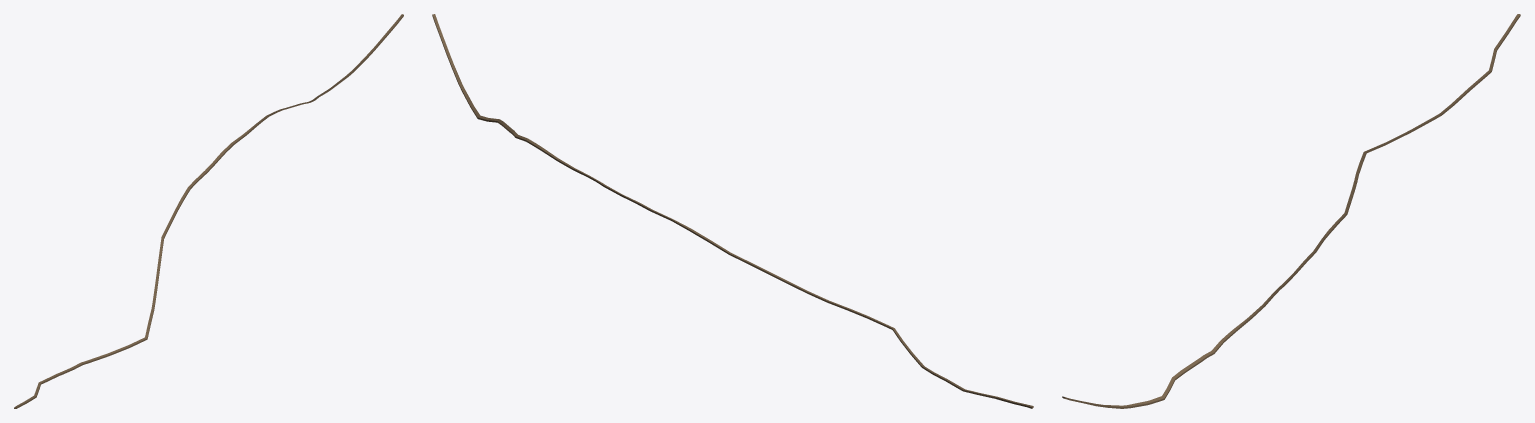
3 views of the same model, side by side, from view 1: azimuth 90°, elevation 25°; view 2: azimuth 150°, elevation 25°; view 3: azimuth 270°, elevation 25° (orthographic). The views are drawn at different scales.
Size of the model in its own units: 380 by 29.38 by 174.
